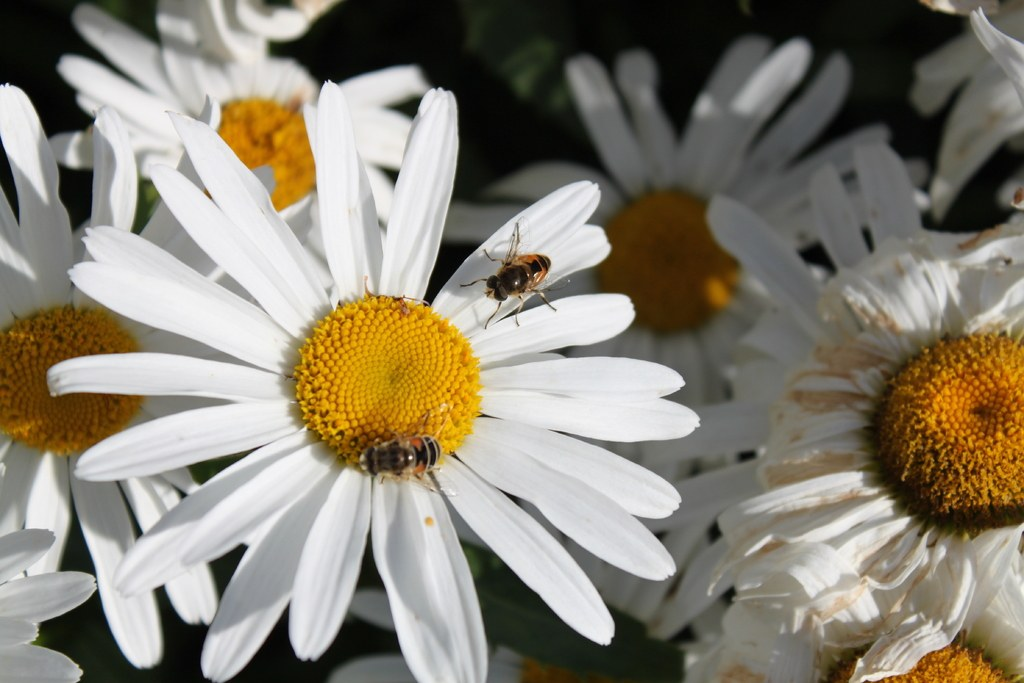bee: (445, 204, 591, 324), (355, 427, 447, 493)
insect: (438, 42, 929, 497), (0, 81, 343, 682), (655, 222, 1023, 682), (50, 0, 431, 302), (915, 0, 1023, 234), (0, 452, 101, 682)
